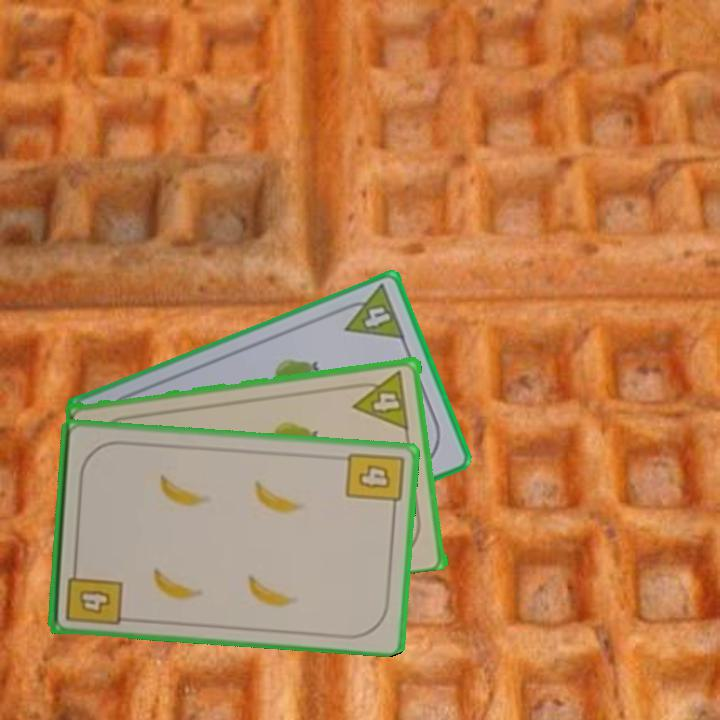4b: (342, 448, 406, 515), (62, 560, 125, 628)
4p: (334, 280, 408, 343), (349, 366, 412, 432)
